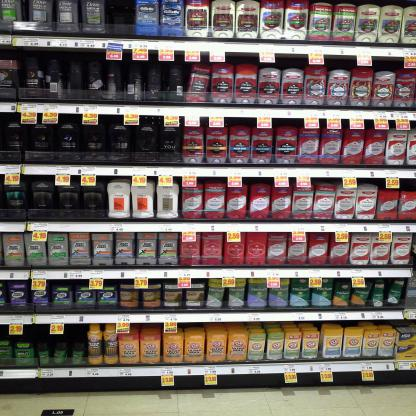Void: (108, 4, 131, 34)
